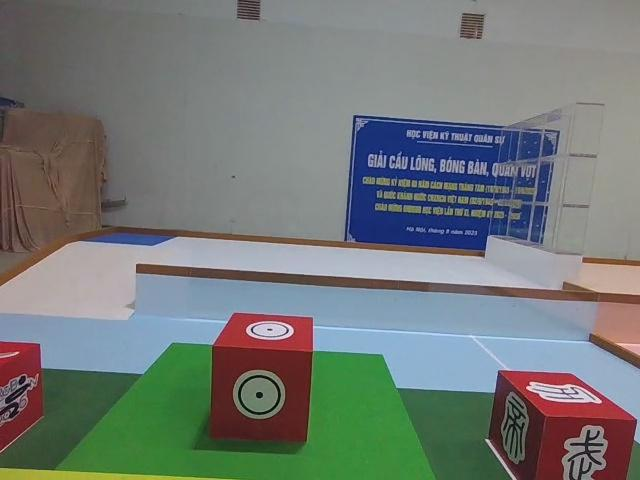R1: (0, 338, 45, 455)
R2 Fake: (486, 368, 639, 480)
R2 Real: (208, 310, 316, 445)
